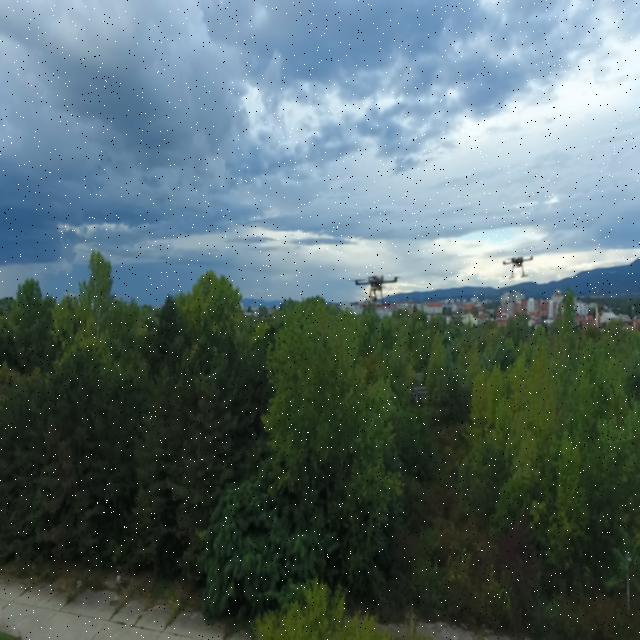UAV: (344, 272, 409, 306), (495, 248, 541, 281)
